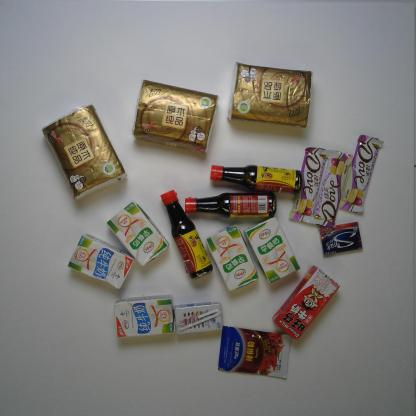Chocolate: (341, 133, 383, 214), (313, 148, 352, 227), (292, 144, 325, 224)
Gum: (314, 221, 364, 254)
Milk: (271, 266, 343, 334), (108, 202, 168, 267), (66, 234, 134, 291), (206, 224, 260, 292), (247, 217, 300, 283), (112, 298, 179, 337), (176, 296, 223, 333)
Seasoner: (216, 321, 294, 383), (162, 184, 212, 277), (207, 164, 303, 192), (183, 192, 277, 218)
Tissue: (42, 105, 126, 200), (131, 80, 219, 152), (228, 59, 310, 128)
